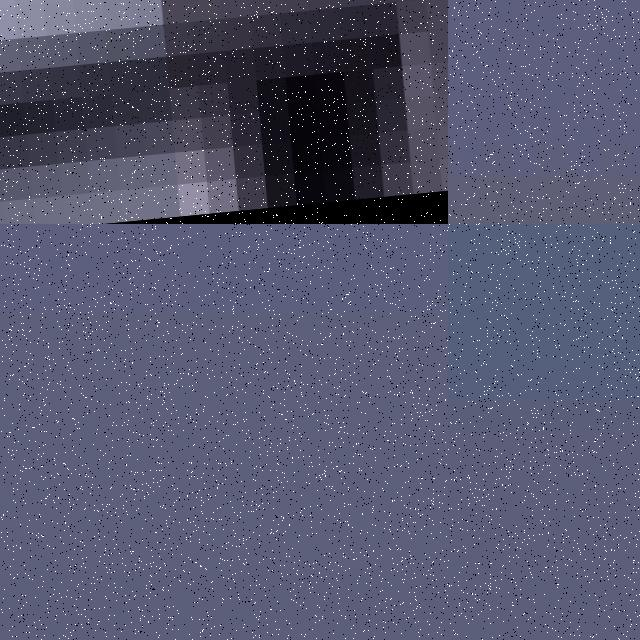drone: (0, 0, 448, 224)
